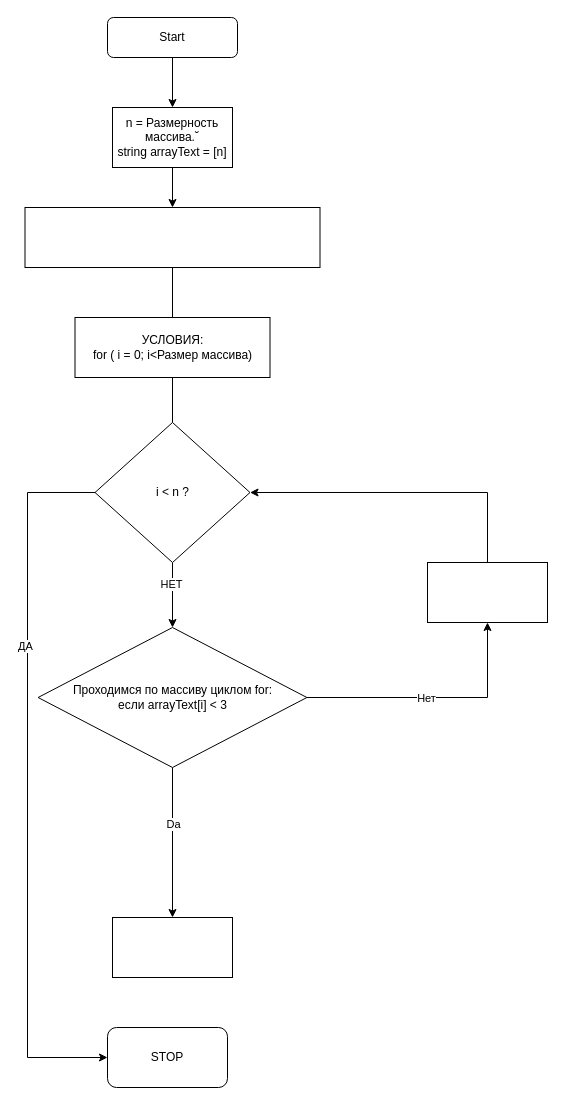
This 565x1105 diagram has some shape labels left out. The centre of each missing label's shape, as x and y in pixels:
"arrayText = Записываем с консоли данные, разделяя методом Split()" goes at (172,237).
"i ++" goes at (487,592).
"print(arrayText[i])" goes at (172,947).
